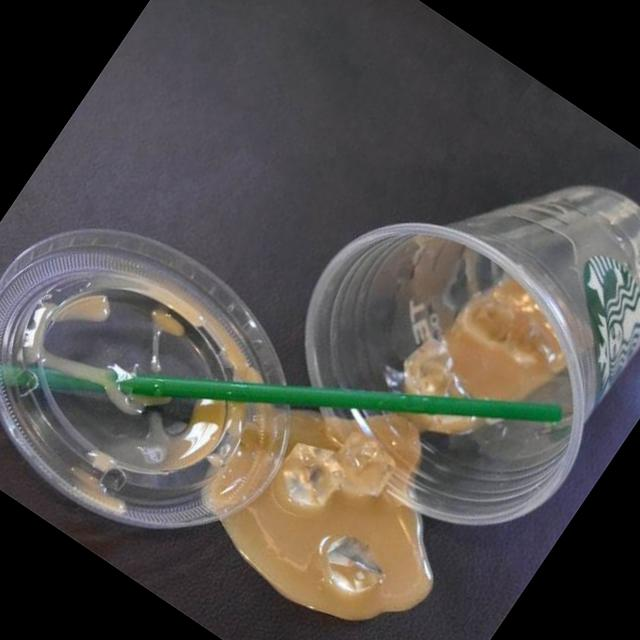GelasPlastik: (239, 61, 640, 578)
